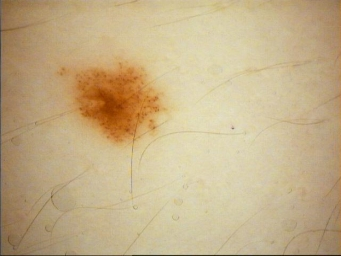nevus: (56, 51, 171, 150)
